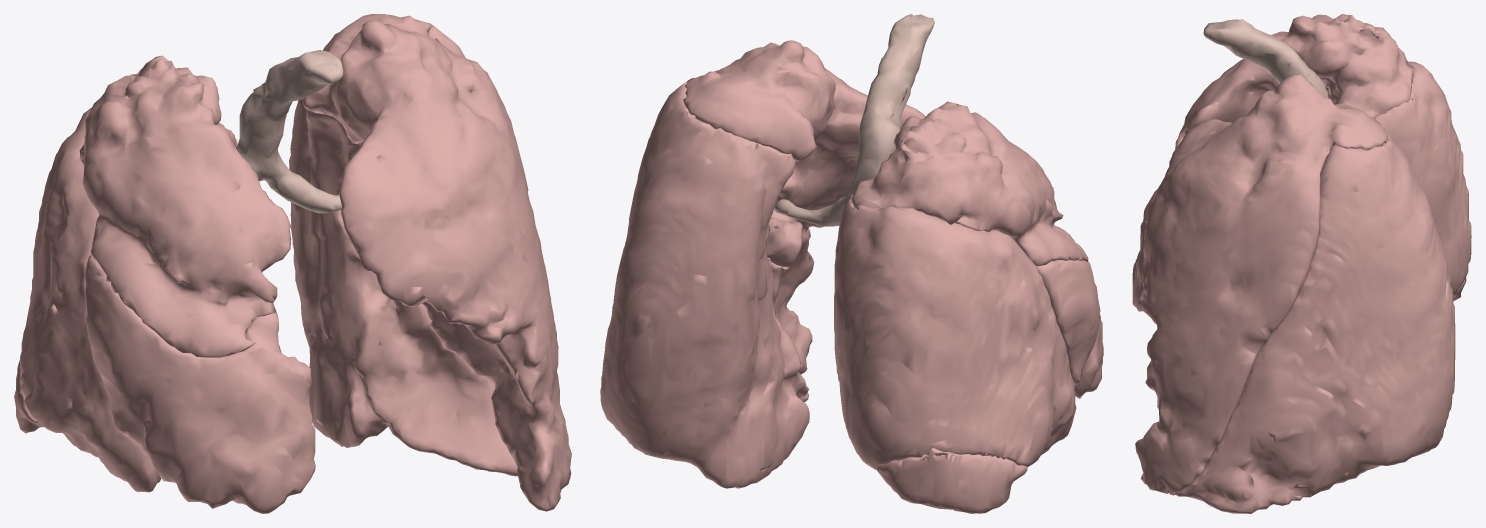
File: tsd_s0327_older_adult_male.respiratory.LOD2.glb
The picture shows the model from 3 angles, left to right: view 1: azimuth 30°, elevation 25°; view 2: azimuth 150°, elevation 25°; view 3: azimuth 270°, elevation 25°; orthographic projection. The views are drawn at different scales.
Visible parts, largest first — view 1: TSD_S0327.OLDER_ADULT.MALE.RESPIRATORY.SUPERIOR_LOBE_OF_LEFT, TSD_S0327.OLDER_ADULT.MALE.RESPIRATORY.SUPERIOR_LOBE_OF_RIGH, TSD_S0327.OLDER_ADULT.MALE.RESPIRATORY.INFERIOR_LOBE_OF_LEFT, TSD_S0327.OLDER_ADULT.MALE.RESPIRATORY.MIDDLE_LOBE_OF_RIGHT_, TSD_S0327.OLDER_ADULT.MALE.RESPIRATORY.INFERIOR_LOBE_OF_RIGH, TSD_S0327.OLDER_ADULT.MALE.RESPIRATORY.TRACHEA; view 2: TSD_S0327.OLDER_ADULT.MALE.RESPIRATORY.INFERIOR_LOBE_OF_LEFT, TSD_S0327.OLDER_ADULT.MALE.RESPIRATORY.INFERIOR_LOBE_OF_RIGH, TSD_S0327.OLDER_ADULT.MALE.RESPIRATORY.SUPERIOR_LOBE_OF_LEFT, TSD_S0327.OLDER_ADULT.MALE.RESPIRATORY.SUPERIOR_LOBE_OF_RIGH, TSD_S0327.OLDER_ADULT.MALE.RESPIRATORY.MIDDLE_LOBE_OF_RIGHT_, TSD_S0327.OLDER_ADULT.MALE.RESPIRATORY.TRACHEA; view 3: TSD_S0327.OLDER_ADULT.MALE.RESPIRATORY.INFERIOR_LOBE_OF_LEFT, TSD_S0327.OLDER_ADULT.MALE.RESPIRATORY.SUPERIOR_LOBE_OF_LEFT, TSD_S0327.OLDER_ADULT.MALE.RESPIRATORY.SUPERIOR_LOBE_OF_RIGH, TSD_S0327.OLDER_ADULT.MALE.RESPIRATORY.INFERIOR_LOBE_OF_RIGH, TSD_S0327.OLDER_ADULT.MALE.RESPIRATORY.TRACHEA, TSD_S0327.OLDER_ADULT.MALE.RESPIRATORY.MIDDLE_LOBE_OF_RIGHT_.
Part boxes in pixels (x1=…): TSD_S0327.OLDER_ADULT.MALE.RESPIRATORY.SUPERIOR_LOBE_OF_LEFT: x1=302, y1=14, x2=571, y2=511; TSD_S0327.OLDER_ADULT.MALE.RESPIRATORY.SUPERIOR_LOBE_OF_RIGH: x1=79, y1=55, x2=291, y2=357; TSD_S0327.OLDER_ADULT.MALE.RESPIRATORY.INFERIOR_LOBE_OF_LEFT: x1=289, y1=25, x2=570, y2=492; TSD_S0327.OLDER_ADULT.MALE.RESPIRATORY.MIDDLE_LOBE_OF_RIGHT_: x1=14, y1=255, x2=315, y2=513; TSD_S0327.OLDER_ADULT.MALE.RESPIRATORY.INFERIOR_LOBE_OF_RIGH: x1=20, y1=107, x2=281, y2=492; TSD_S0327.OLDER_ADULT.MALE.RESPIRATORY.TRACHEA: x1=236, y1=50, x2=343, y2=213; TSD_S0327.OLDER_ADULT.MALE.RESPIRATORY.INFERIOR_LOBE_OF_LEFT: x1=600, y1=80, x2=809, y2=488; TSD_S0327.OLDER_ADULT.MALE.RESPIRATORY.INFERIOR_LOBE_OF_RIGH: x1=834, y1=195, x2=1076, y2=469; TSD_S0327.OLDER_ADULT.MALE.RESPIRATORY.SUPERIOR_LOBE_OF_LEFT: x1=682, y1=40, x2=925, y2=374; TSD_S0327.OLDER_ADULT.MALE.RESPIRATORY.SUPERIOR_LOBE_OF_RIGH: x1=851, y1=101, x2=1088, y2=266; TSD_S0327.OLDER_ADULT.MALE.RESPIRATORY.MIDDLE_LOBE_OF_RIGHT_: x1=877, y1=260, x2=1103, y2=513; TSD_S0327.OLDER_ADULT.MALE.RESPIRATORY.TRACHEA: x1=773, y1=14, x2=934, y2=226; TSD_S0327.OLDER_ADULT.MALE.RESPIRATORY.INFERIOR_LOBE_OF_LEFT: x1=1169, y1=134, x2=1455, y2=513; TSD_S0327.OLDER_ADULT.MALE.RESPIRATORY.SUPERIOR_LOBE_OF_LEFT: x1=1135, y1=74, x2=1388, y2=493; TSD_S0327.OLDER_ADULT.MALE.RESPIRATORY.SUPERIOR_LOBE_OF_RIGH: x1=1175, y1=14, x2=1414, y2=148; TSD_S0327.OLDER_ADULT.MALE.RESPIRATORY.INFERIOR_LOBE_OF_RIGH: x1=1375, y1=61, x2=1471, y2=294; TSD_S0327.OLDER_ADULT.MALE.RESPIRATORY.TRACHEA: x1=1203, y1=19, x2=1328, y2=97; TSD_S0327.OLDER_ADULT.MALE.RESPIRATORY.MIDDLE_LOBE_OF_RIGHT_: x1=1132, y1=186, x2=1466, y2=311.
Bounding box in the file's own units: 0.2451 × 0.2371 × 0.1856.
